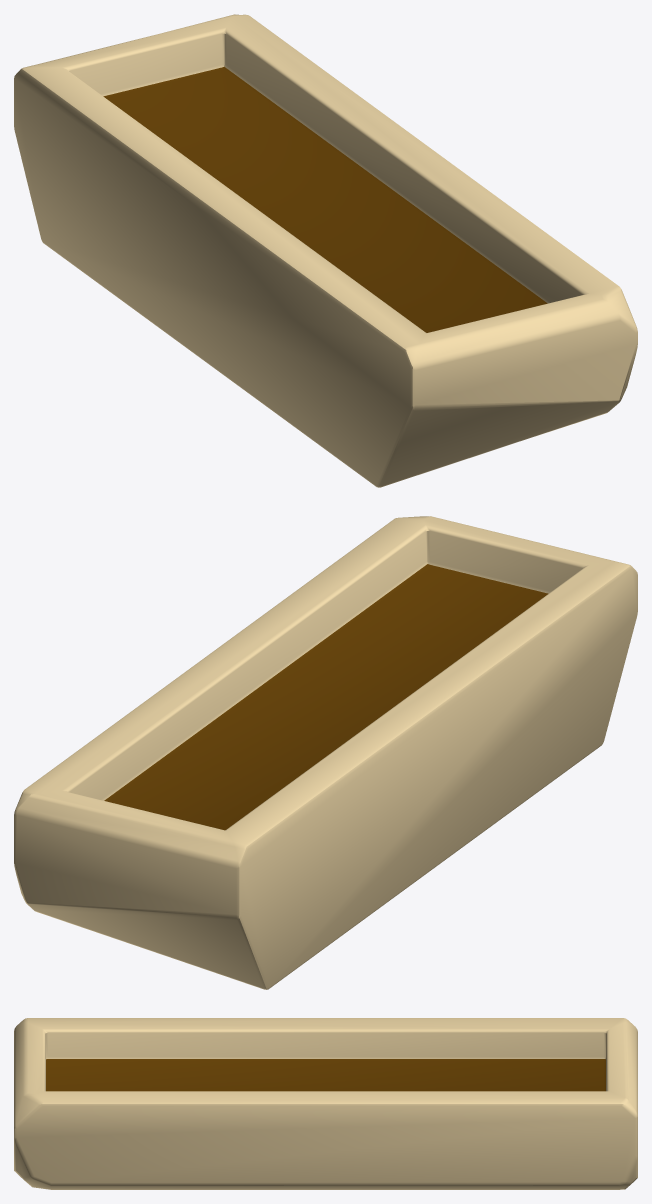
The model's file is Module_Window_Planter_Long_01.fbx.
The picture shows the model from 3 angles, top to bottom: view 1: azimuth 30°, elevation 25°; view 2: azimuth 150°, elevation 25°; view 3: azimuth 270°, elevation 25°; orthographic projection. The views are drawn at different scales.
Visible parts, largest first — view 1: Module_Window_Planter_Long_01_Geometry; view 2: Module_Window_Planter_Long_01_Geometry; view 3: Module_Window_Planter_Long_01_Geometry.
Part boxes in pixels (x1,y1,x2,y2): Module_Window_Planter_Long_01_Geometry: (14, 14, 637, 487); Module_Window_Planter_Long_01_Geometry: (14, 516, 637, 989); Module_Window_Planter_Long_01_Geometry: (14, 1018, 637, 1189).
Bounding box in the file's own units: 0.6558 × 0.4419 × 2.
